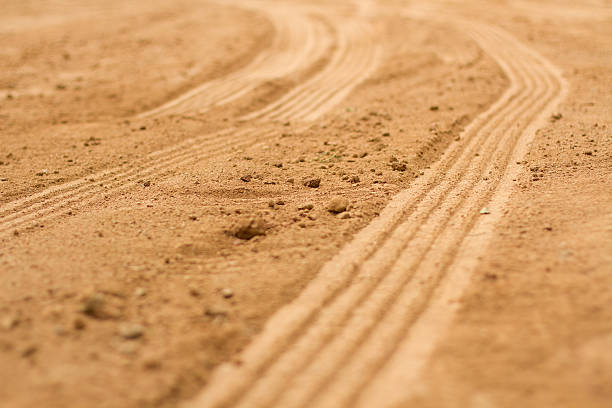vehicle_track: (188, 22, 564, 407), (0, 125, 272, 234), (139, 1, 334, 116)
